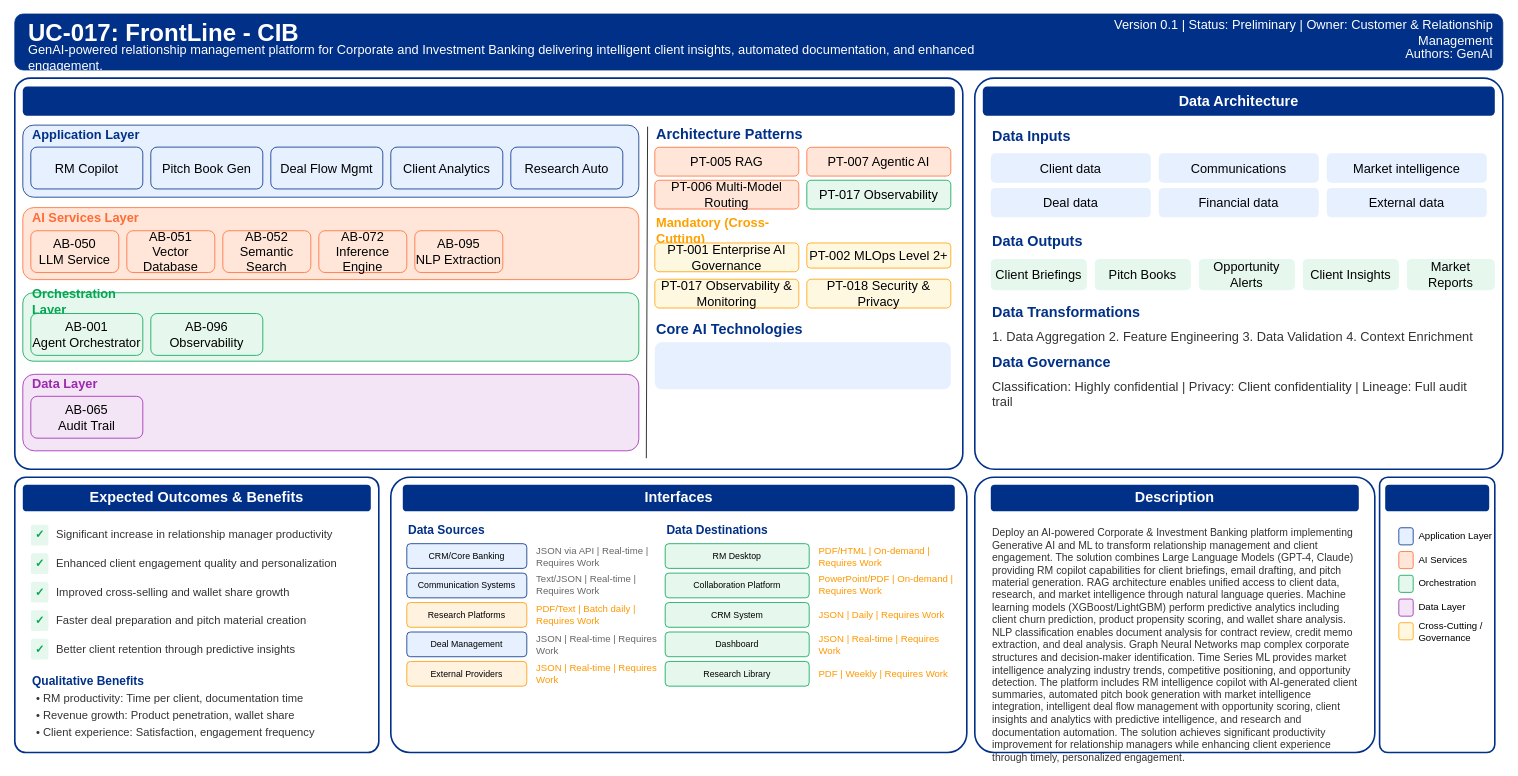
This 1518x776 diagram has some shape labels left out. The shapes that lost their labels are listed below. From the top down, each one's centre as x and y in pixels, then its label:
At [488,100]: "Solution".
At [802,365]: "GPT-4/Claude | XGBoost/LightGBM | Graph Neural Networks".
At [1437,497]: "Legend".
